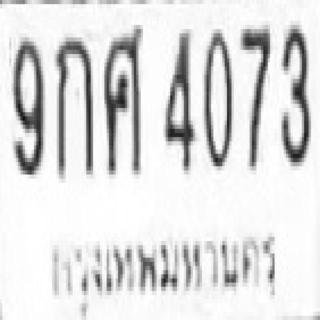A01: (54, 33, 91, 175)
A38: (102, 23, 141, 172)
N00: (202, 25, 232, 166)
N03: (279, 21, 309, 162)
N04: (161, 25, 193, 170)
N07: (238, 25, 270, 166)
N09: (11, 33, 43, 175)
P04: (36, 210, 280, 316)
